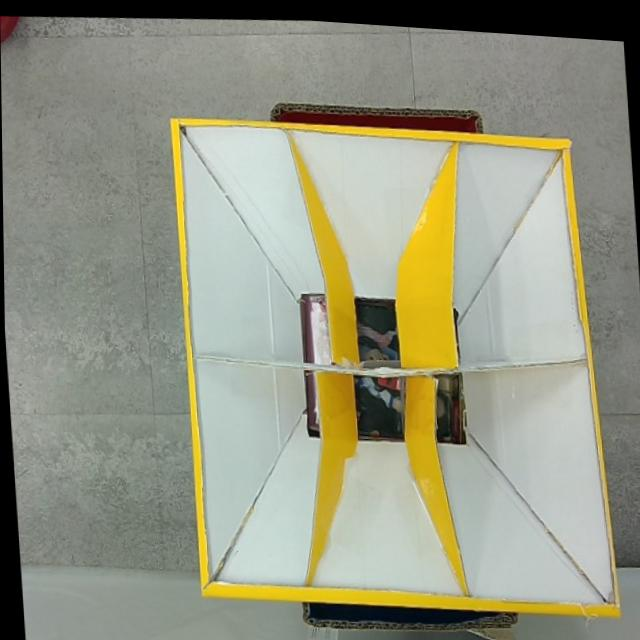box: (166, 76, 622, 640)
